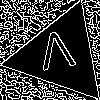V: (35, 30, 79, 80)
